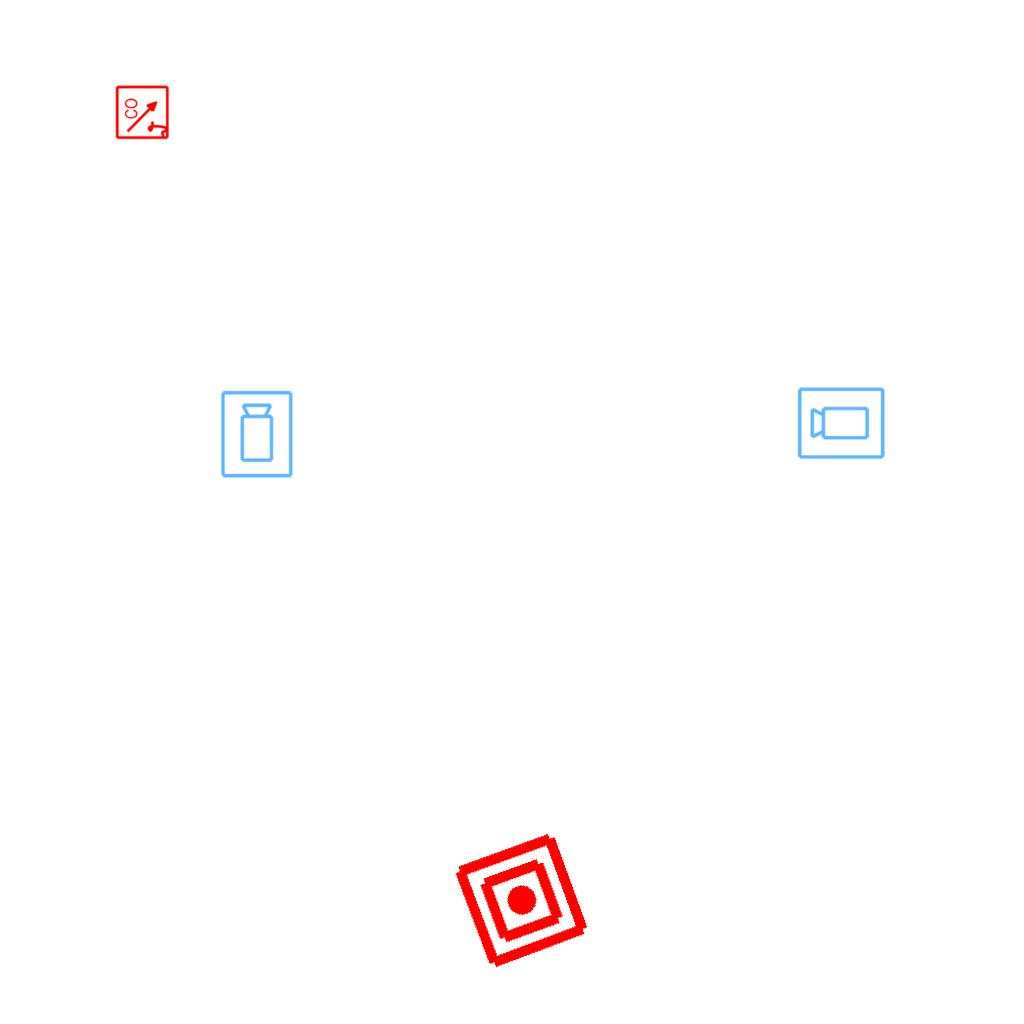KFO_Kamera_mit_Festobjektiv: (796, 384, 887, 461), (219, 389, 296, 480)
NAM-Nichtautomatischer_Melder: (449, 828, 594, 973)
ROA_Rauchmelder_optisch_mit_Signalgeber_(Sockelsirene): (115, 84, 171, 140)
